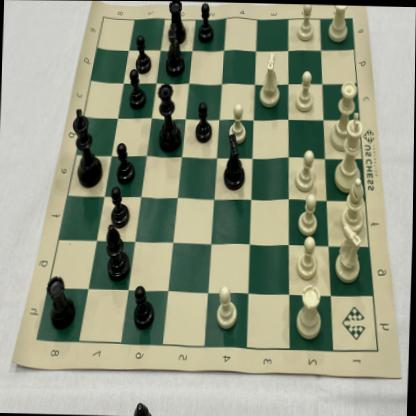black-king: (70, 104, 105, 191)
black-knight: (100, 221, 133, 283)
black-pawn: (132, 281, 160, 329), (109, 183, 133, 230), (114, 140, 137, 186), (192, 97, 214, 143), (125, 68, 148, 111), (194, 1, 216, 45), (133, 33, 155, 75)
black-queen: (155, 79, 184, 157)
black-rook: (45, 271, 79, 330), (163, 1, 189, 46)
white-bishop: (339, 173, 370, 233)
white-king: (332, 109, 366, 194)
white-knight: (335, 220, 366, 284), (221, 132, 249, 190), (257, 49, 284, 108), (163, 20, 188, 77)
white-pawn: (215, 281, 241, 330), (296, 234, 321, 280), (296, 192, 321, 236), (294, 149, 318, 193), (294, 68, 316, 114), (228, 100, 248, 144), (295, 3, 316, 41)
white-queen: (329, 78, 360, 151)
white-rook: (295, 281, 326, 341), (327, 4, 351, 43)
